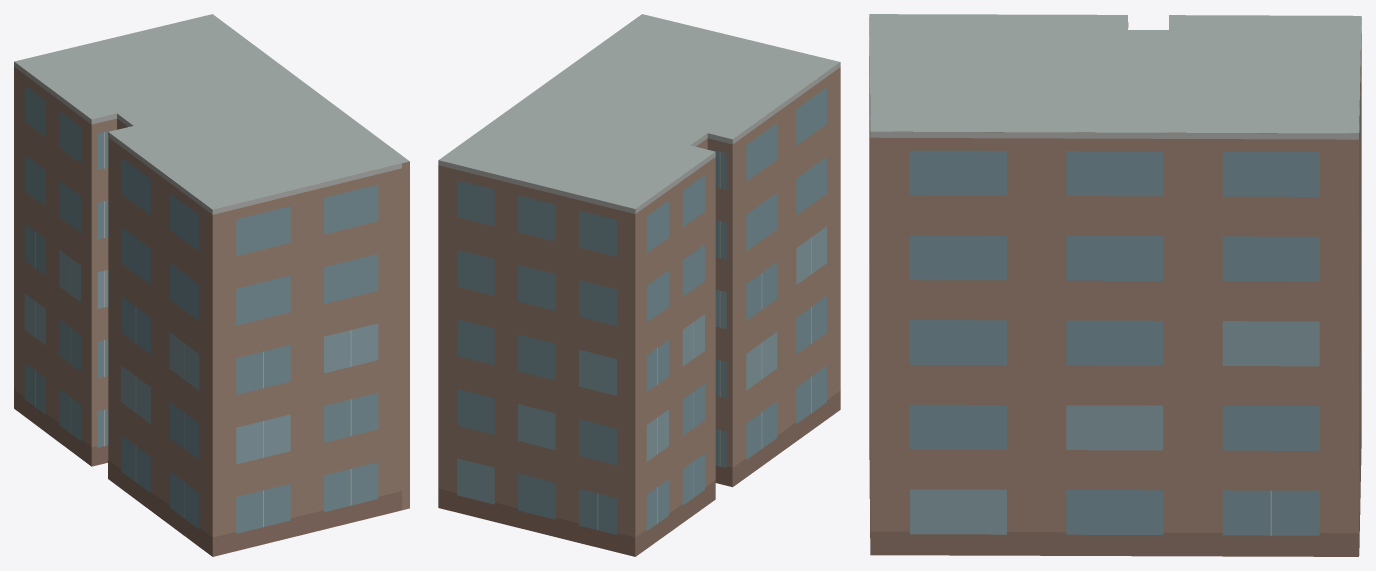
The model's file is survey-upis-32974063.glb.
The picture shows the model from 3 angles, left to right: view 1: azimuth 30°, elevation 25°; view 2: azimuth 150°, elevation 25°; view 3: azimuth 270°, elevation 25°; orthographic projection. The views are drawn at different scales.
Visible parts, largest first — view 1: survey-upis-32974063.tmp; view 2: survey-upis-32974063.tmp; view 3: survey-upis-32974063.tmp.
Boxes of the visible parts, left/top/right/bottom form: survey-upis-32974063.tmp: left=14, top=14, right=409, bottom=556; survey-upis-32974063.tmp: left=438, top=14, right=840, bottom=556; survey-upis-32974063.tmp: left=869, top=14, right=1361, bottom=556.
Size of the model in its own units: 10.17 by 16.8 by 17.7.
